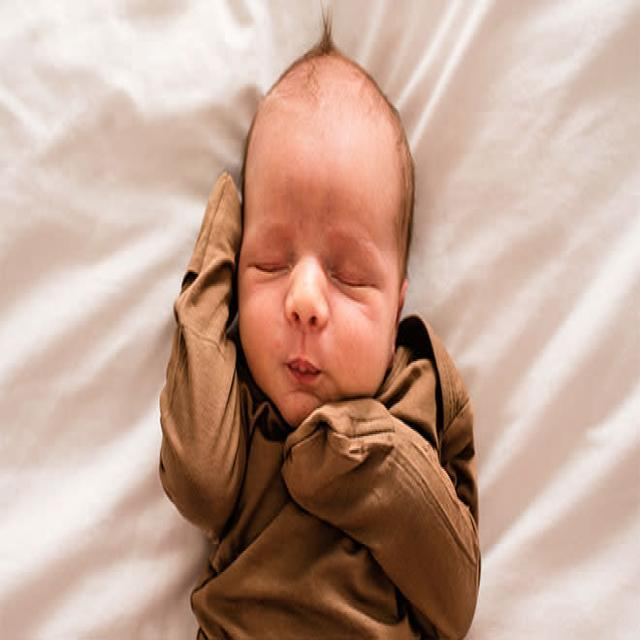non-dog: (153, 17, 484, 640)
